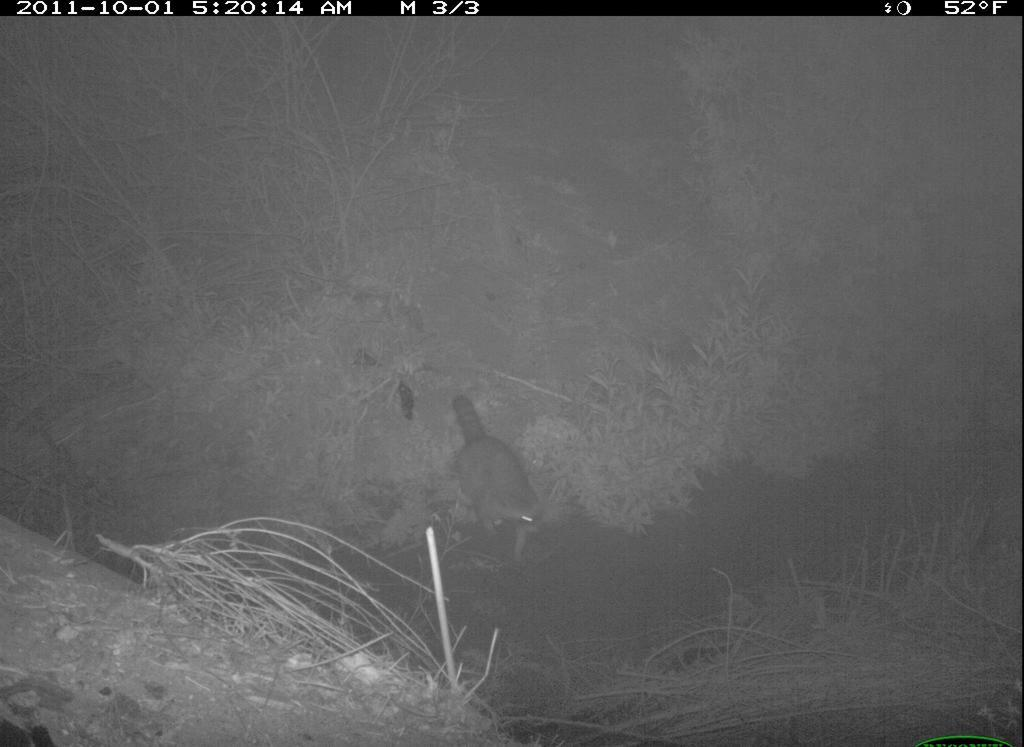raccoon: (409, 373, 561, 559)
